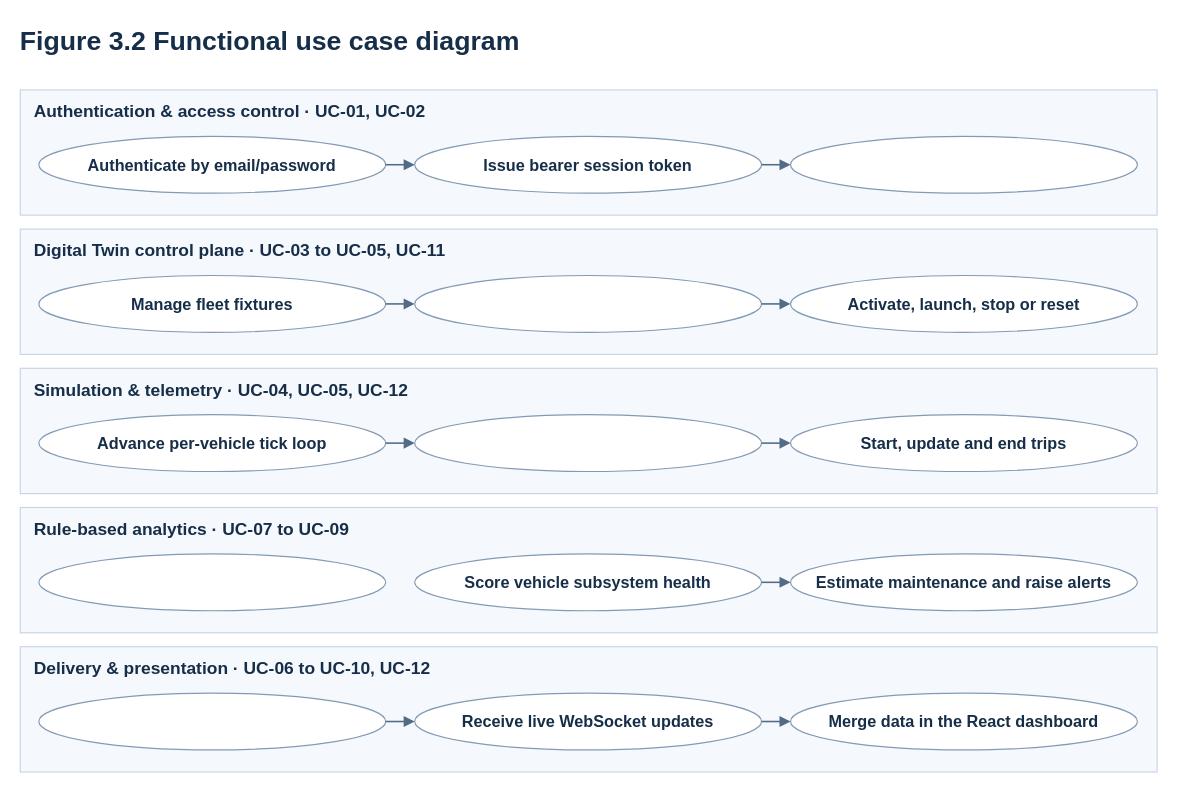
The diagram is 1177 pixels wide and 792 high, and some of its shapes have lost their labels. Each missing label, with the centre of its shape:
"Configure simulation scenario" belongs at (588,303).
"Detect behaviour and score trips" belongs at (212,582).
"Enforce role guards" belongs at (963,164).
"Generate OBD-II telemetry" belongs at (588,443).
"Read operational data via REST" belongs at (212,721).
